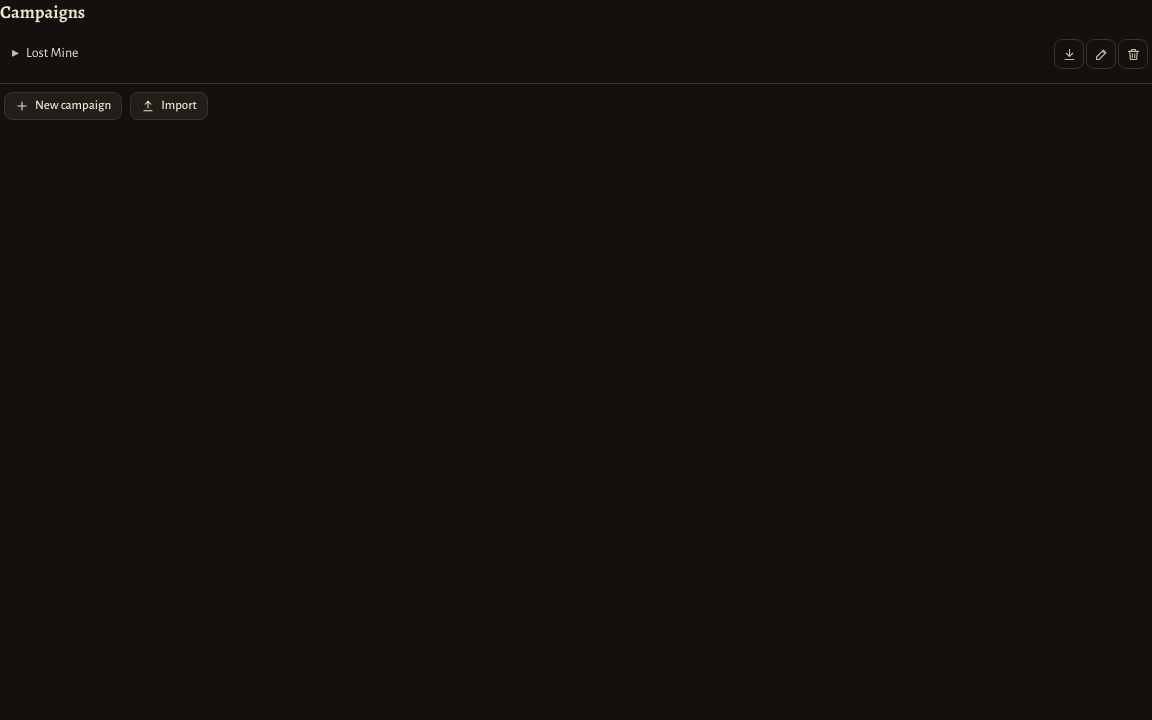
deletion with its confirmation (specs/03-domain-model.md §7, D-078) › shows the new counts and deletes nothing when the tree changed after the dialog opened
The image size is (1152, 720).
Step 1. Click the button named "Delete Lost Mine" → (1133, 54), box [1118,39,1148,69]
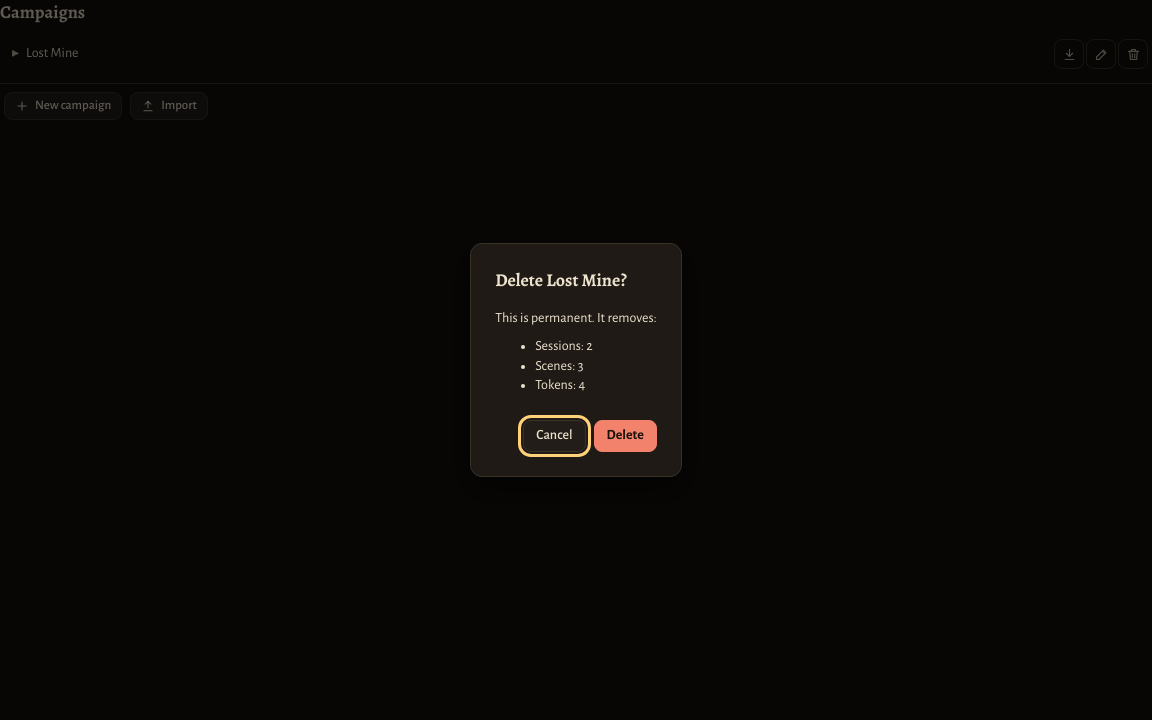
Step 2. Click the button "Delete" → (625, 436), box [594,420,657,452]
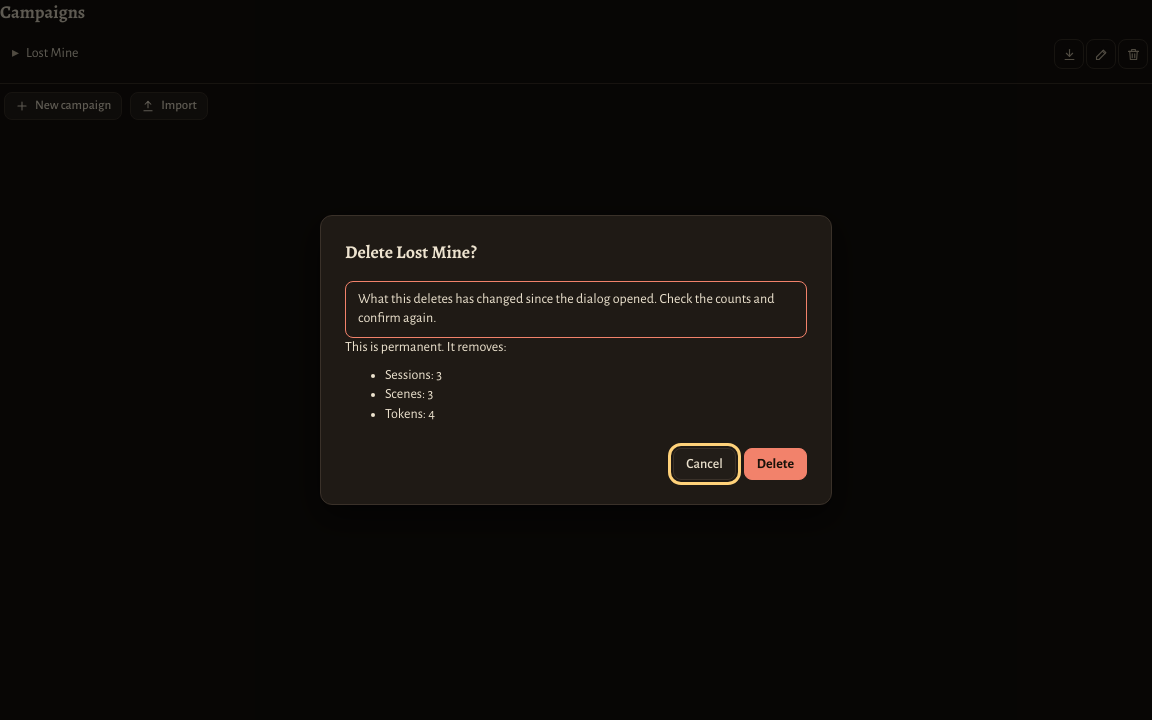
Expected: the dialog shows "What this deletes has changed since the dialog opened. Check the counts and confirm again.", [358,292,774,325]
Step 3. Click the button "Delete" → (775, 464), box [744,448,807,480]
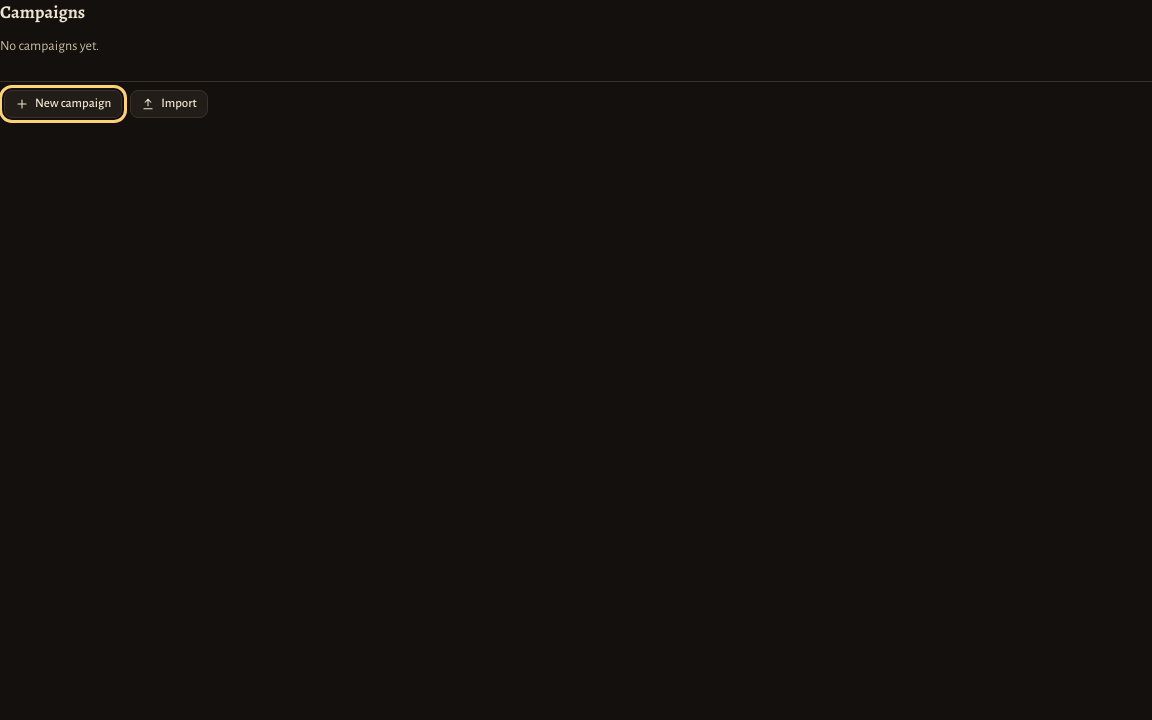
Expected: the text "No campaigns yet." is shown, [0,39,99,53]
